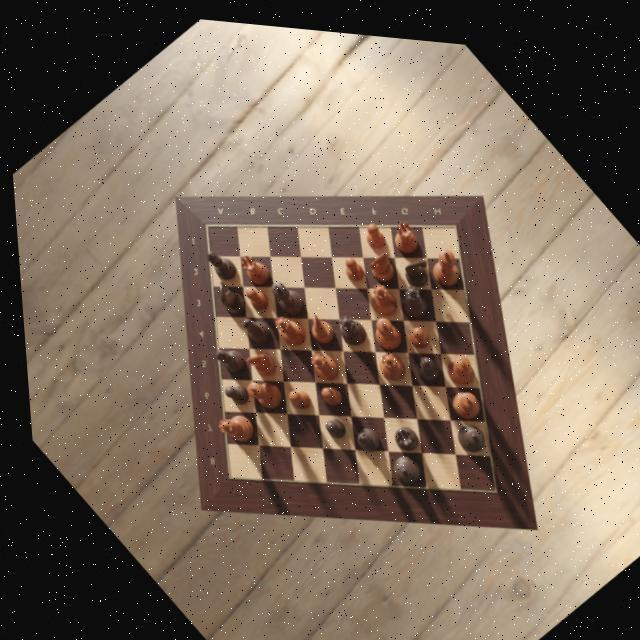chess-table-corners: (467, 458, 505, 498), (209, 452, 246, 490), (431, 198, 468, 236), (188, 206, 225, 243)
